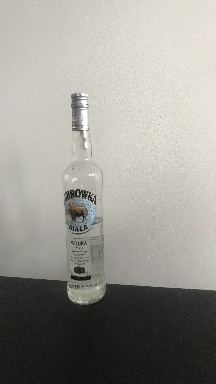butelka: (60, 89, 107, 308)
